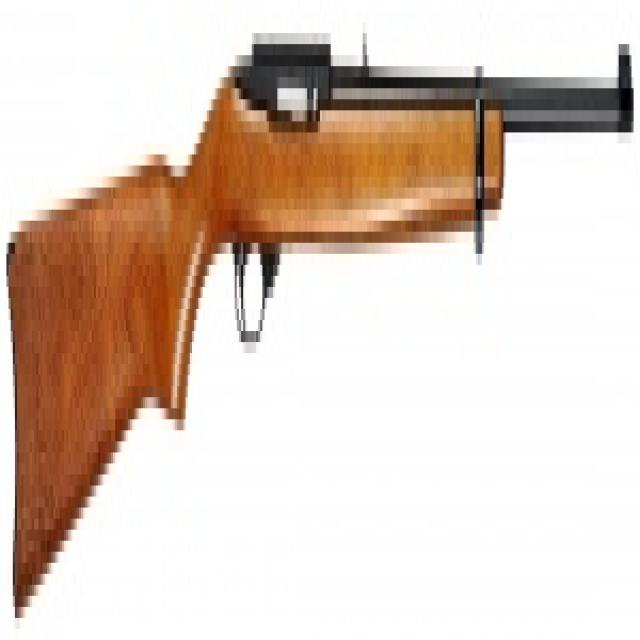rifle: (7, 28, 637, 618)
